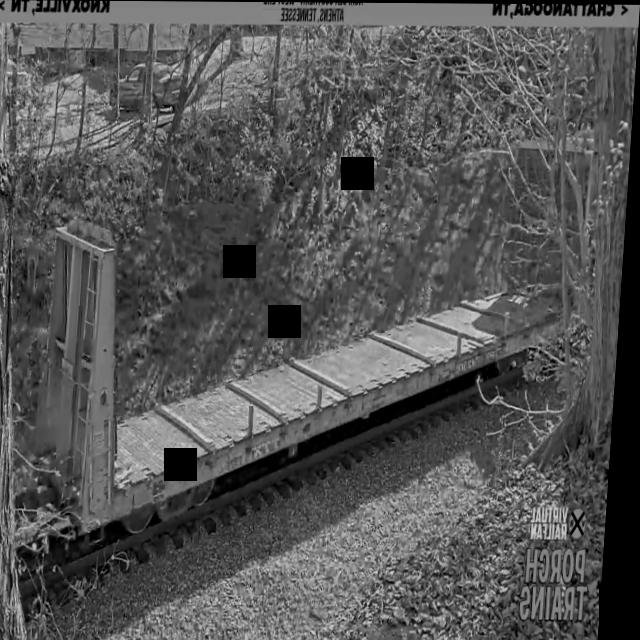flatcar_bulkhead: (31, 125, 594, 574)
